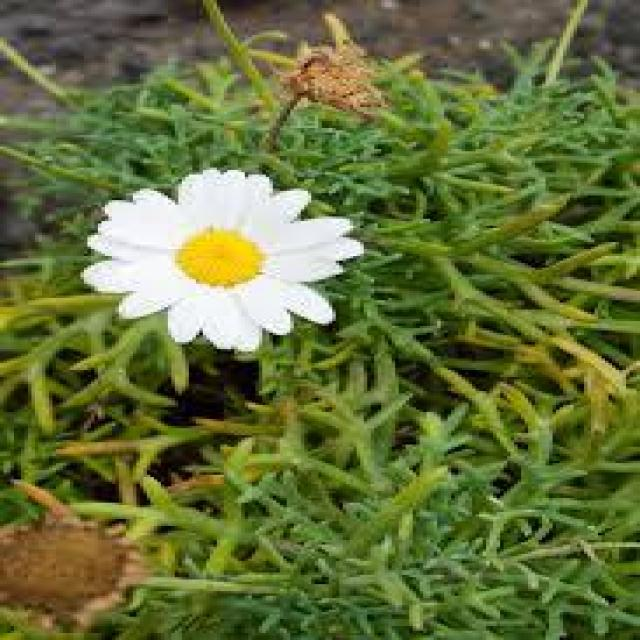organic waste: (80, 160, 364, 346)
